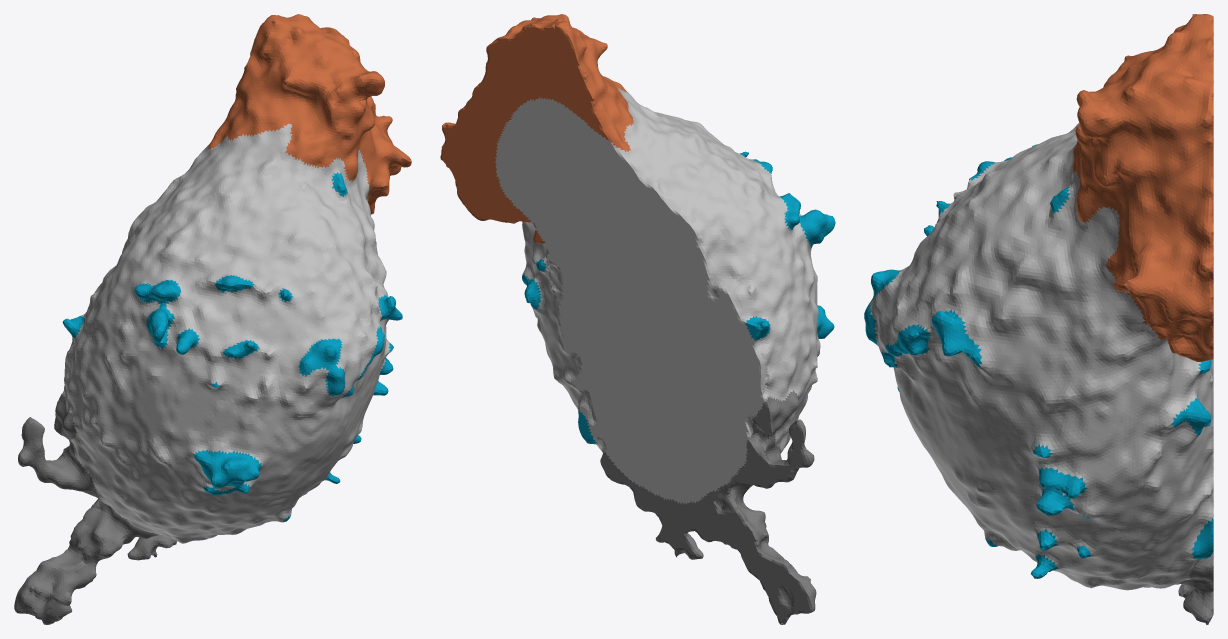
3 views of the same model, side by side, from view 1: azimuth 30°, elevation 25°; view 2: azimuth 150°, elevation 25°; view 3: azimuth 270°, elevation 25° (orthographic). The views are drawn at different scales.
Bounding box in the file's own units: 121 × 169 × 72.18.
